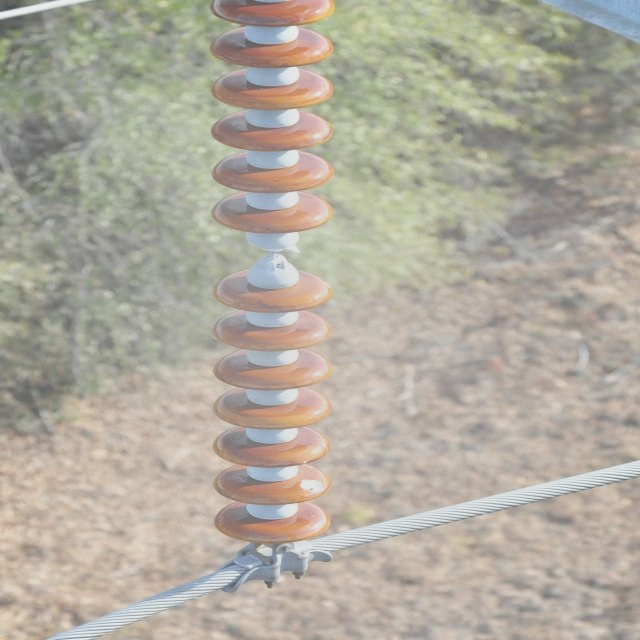broken: (247, 244, 310, 261), (297, 479, 324, 492)
insulator: (212, 0, 333, 538)
